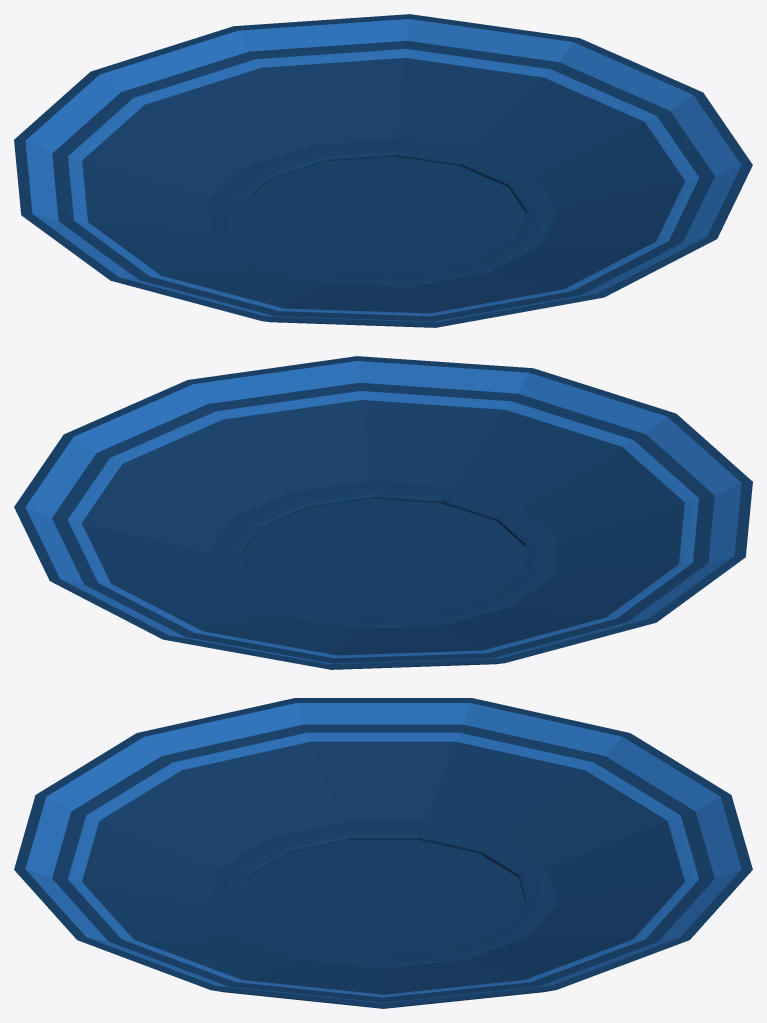
Rendered from TT_British_saucer.fbx.
3 views of the same model, one above another, from view 1: azimuth 30°, elevation 25°; view 2: azimuth 150°, elevation 25°; view 3: azimuth 270°, elevation 25° (orthographic).
Visible parts, largest first — view 1: British_saucer; view 2: British_saucer; view 3: British_saucer.
Boxes of the visible parts, box(x1,y1,x2,y2) form: British_saucer: box(14, 14, 752, 327); British_saucer: box(14, 356, 752, 669); British_saucer: box(14, 698, 752, 1008).
Bounding box in the file's own units: 3.26 × 0.2613 × 3.29.
